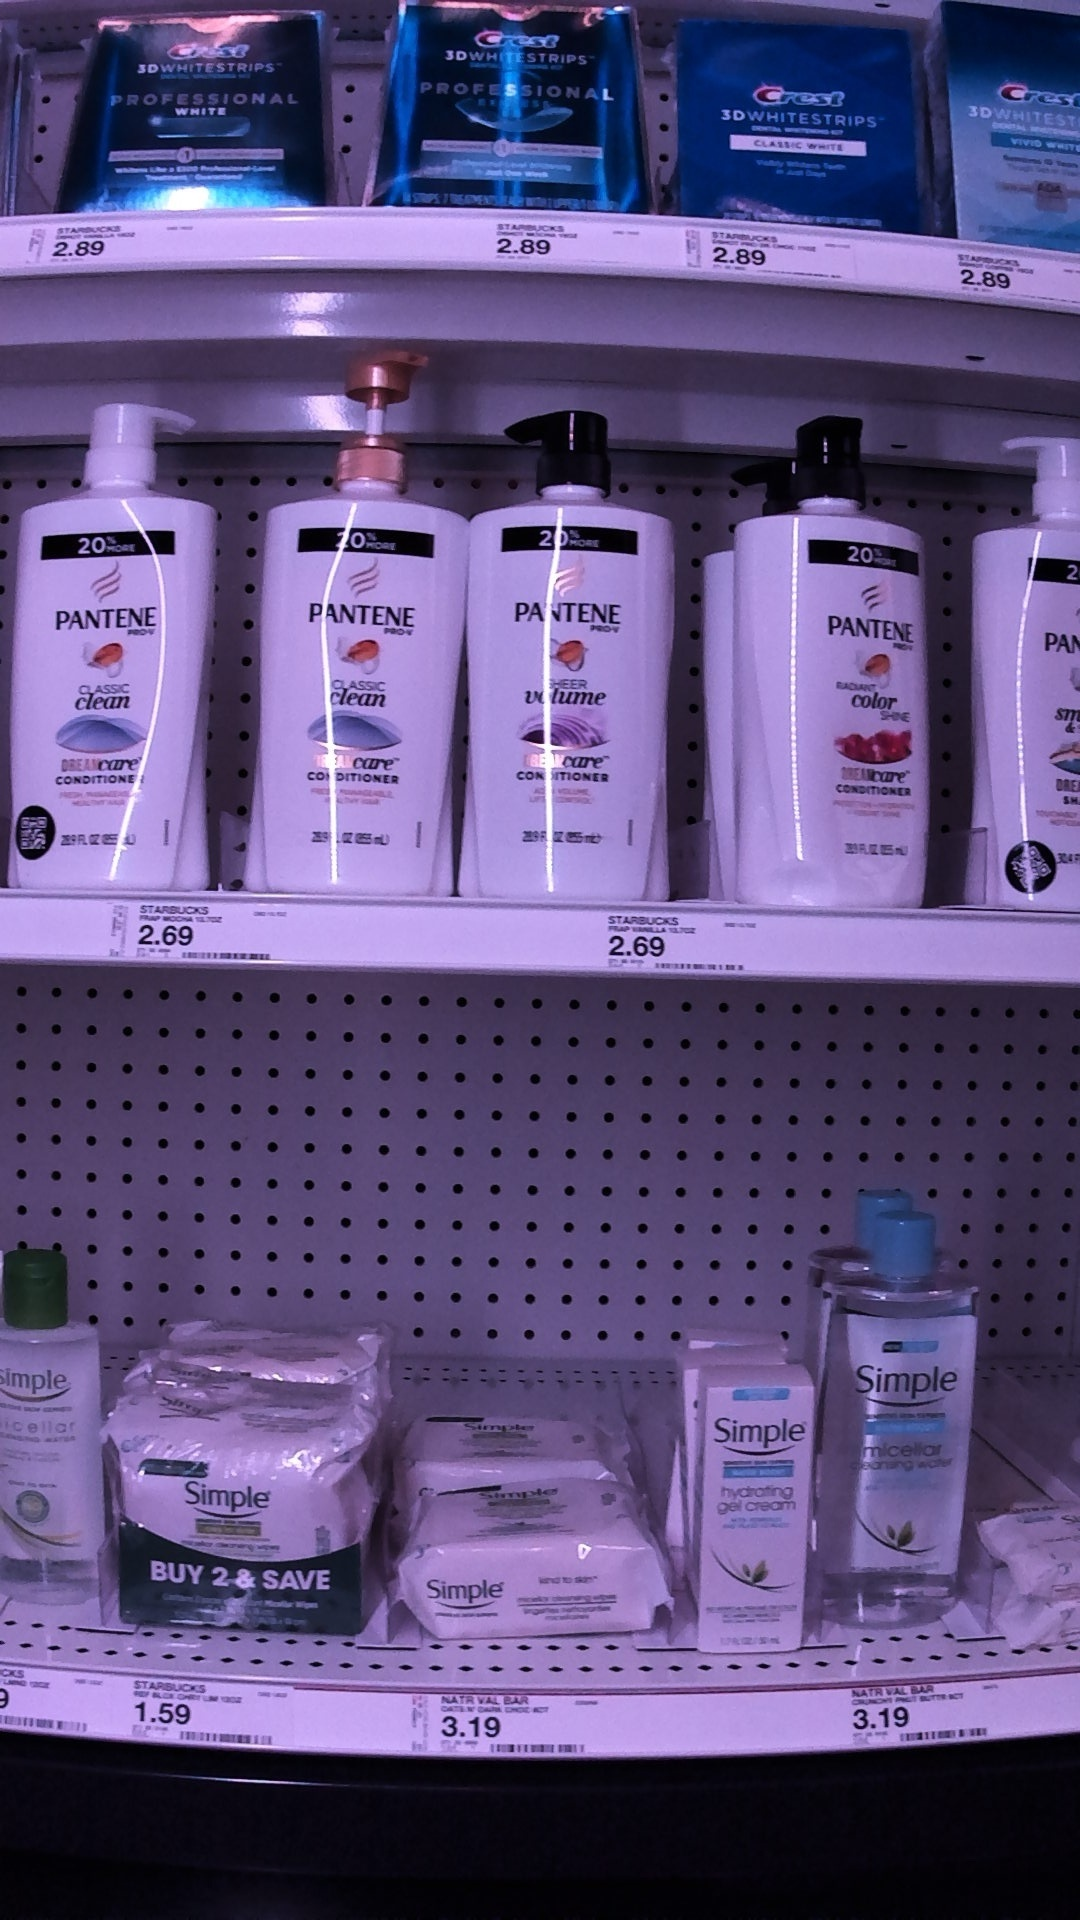ptag: (111, 891, 289, 975), (111, 1669, 276, 1756), (597, 902, 773, 984), (411, 1689, 607, 1762), (678, 222, 851, 301), (837, 1671, 1000, 1753), (22, 215, 200, 269), (483, 214, 615, 280), (940, 235, 1038, 306)
